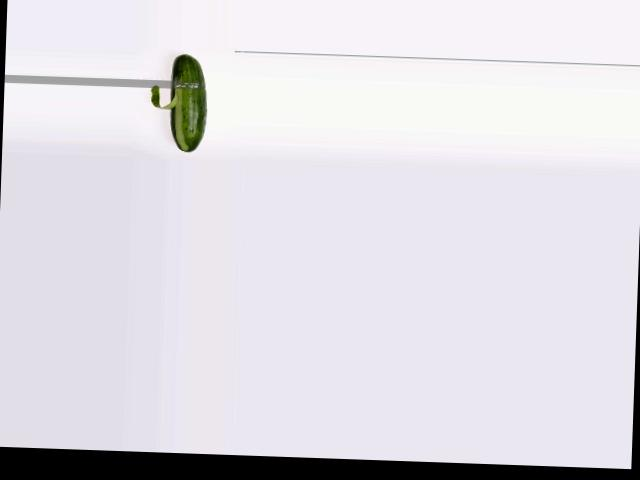cucumber: (167, 53, 207, 152)
